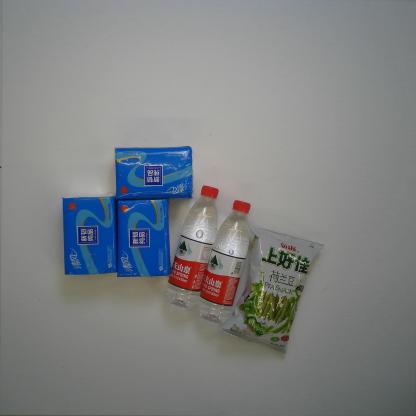Drink: (163, 184, 220, 310), (195, 199, 252, 325)
Puffed Food: (218, 224, 325, 355)
Tissue: (61, 195, 118, 275), (113, 145, 194, 201), (117, 198, 172, 278)
